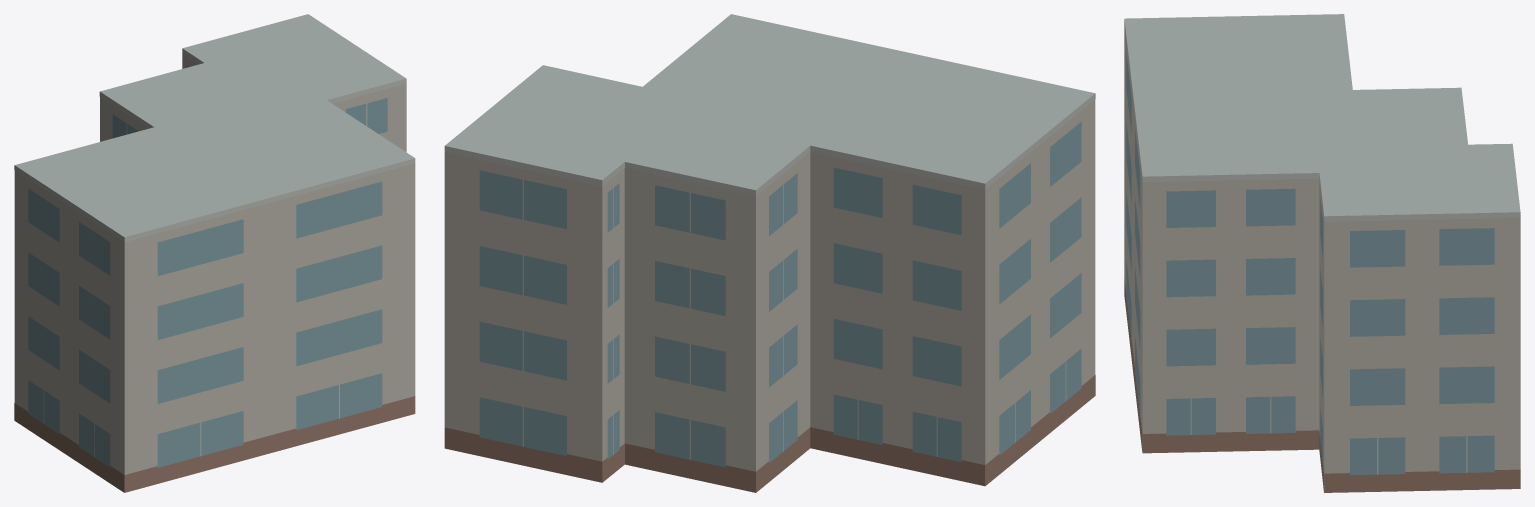
File: residential-aed1f54b-2644-421e-8755-9cbb734f0ae0.glb
The picture shows the model from 3 angles, left to right: view 1: azimuth 30°, elevation 25°; view 2: azimuth 150°, elevation 25°; view 3: azimuth 270°, elevation 25°; orthographic projection. The views are drawn at different scales.
Parts seen in each view (by area): view 1: residential-aed1f54b-2644-421e-8755-9cbb734f0ae0.tmp; view 2: residential-aed1f54b-2644-421e-8755-9cbb734f0ae0.tmp; view 3: residential-aed1f54b-2644-421e-8755-9cbb734f0ae0.tmp.
Part boxes in pixels (x1,y1,x2,y2): residential-aed1f54b-2644-421e-8755-9cbb734f0ae0.tmp: (14, 14, 415, 492); residential-aed1f54b-2644-421e-8755-9cbb734f0ae0.tmp: (444, 14, 1095, 492); residential-aed1f54b-2644-421e-8755-9cbb734f0ae0.tmp: (1124, 14, 1520, 492).
Size of the model in its own units: 19.13 by 12.2 by 15.84.
